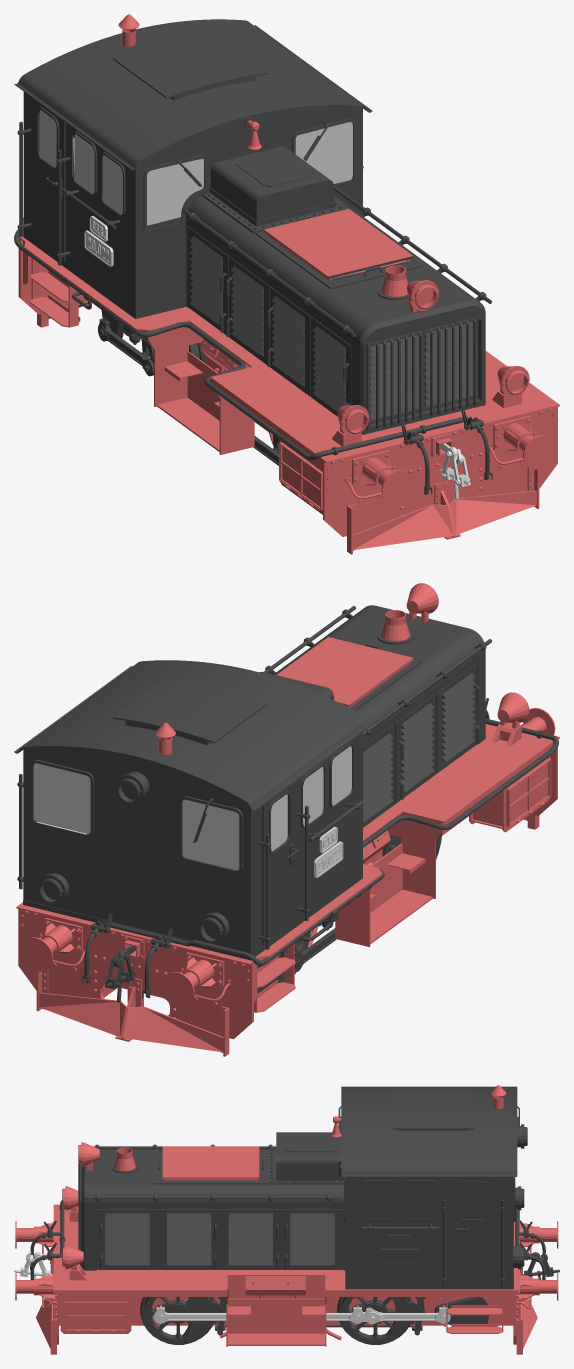
The model's file is Loco.fbx.
The picture shows the model from 3 angles, top to bottom: view 1: azimuth 30°, elevation 25°; view 2: azimuth 150°, elevation 25°; view 3: azimuth 270°, elevation 25°; orthographic projection. The views are drawn at different scales.
Visible parts, largest first — view 1: Cabin_001, Diesel_mot, Frame_001, Brake_pipe, Side_rod_0_inst_2, Plates_001; view 2: Cabin_001, Frame_001, Diesel_mot, Brake_pipe, Plates_001, Side_rod_0_inst_2; view 3: Cabin_001, Diesel_mot, Frame_001, Driving_w0, Side_rod_0, Driving_wh, Brake_pipe, Plates_001_inst_2, Brake_arms, Crank_001.
Boxes of the visible parts, bbox=[...] form: Cabin_001: bbox=[14, 14, 372, 318]; Diesel_mot: bbox=[183, 146, 491, 434]; Frame_001: bbox=[18, 217, 559, 554]; Brake_pipe: bbox=[14, 229, 492, 494]; Side_rod_0_inst_2: bbox=[98, 317, 278, 465]; Plates_001: bbox=[84, 216, 113, 266]; Cabin_001: bbox=[14, 660, 372, 960]; Frame_001: bbox=[16, 692, 559, 1056]; Diesel_mot: bbox=[259, 583, 491, 827]; Brake_pipe: bbox=[81, 698, 558, 998]; Plates_001: bbox=[314, 826, 343, 877]; Side_rod_0_inst_2: bbox=[257, 928, 336, 993]; Cabin_001: bbox=[331, 1085, 527, 1289]; Diesel_mot: bbox=[78, 1132, 345, 1270]; Frame_001: bbox=[15, 1186, 558, 1354]; Driving_w0: bbox=[140, 1297, 215, 1344]; Side_rod_0: bbox=[153, 1305, 450, 1324]; Driving_wh: bbox=[337, 1297, 412, 1344]; Brake_pipe: bbox=[30, 1200, 545, 1279]; Plates_001_inst_2: bbox=[378, 1234, 418, 1263]; Brake_arms: bbox=[212, 1289, 425, 1335]; Crank_001: bbox=[434, 1297, 488, 1324].
Size of the model in its own units: 134 by 159 by 335.
